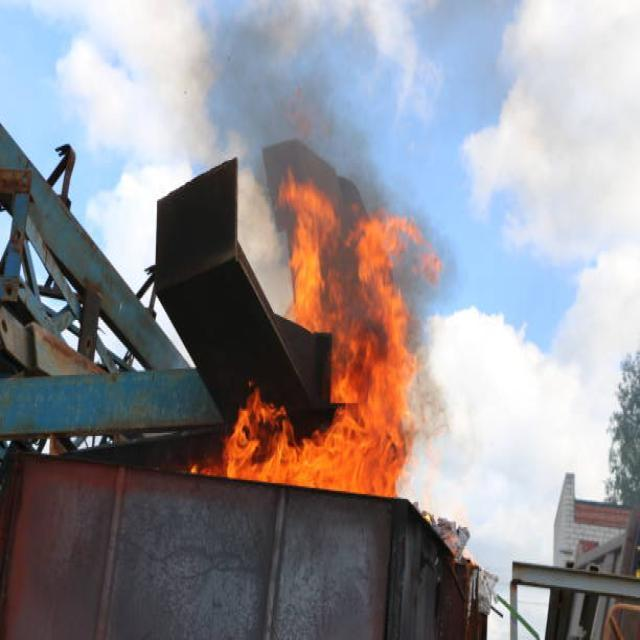Fire: (204, 188, 422, 514)
Smoke: (200, 0, 447, 229)
